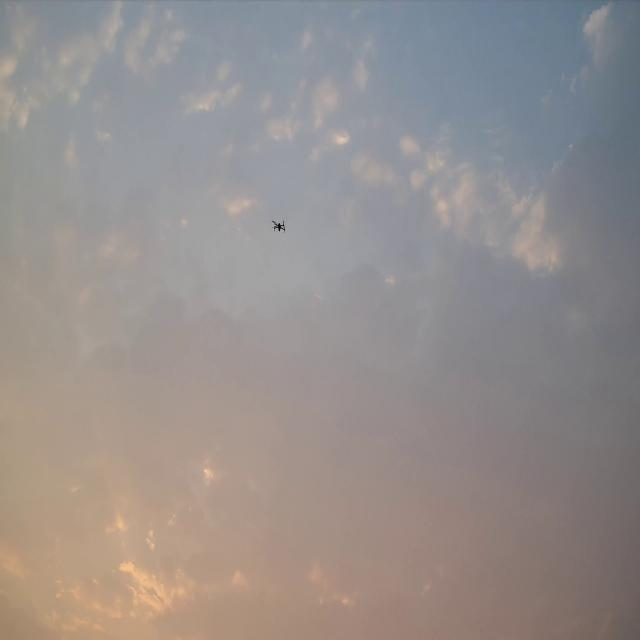UAV: (271, 218, 287, 234)
